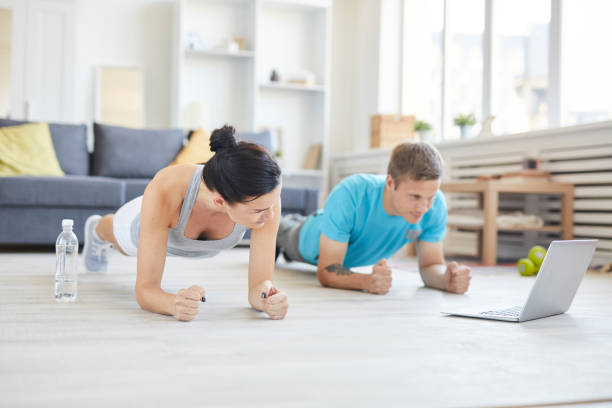without mask: (391, 167, 448, 230), (225, 169, 282, 232)
